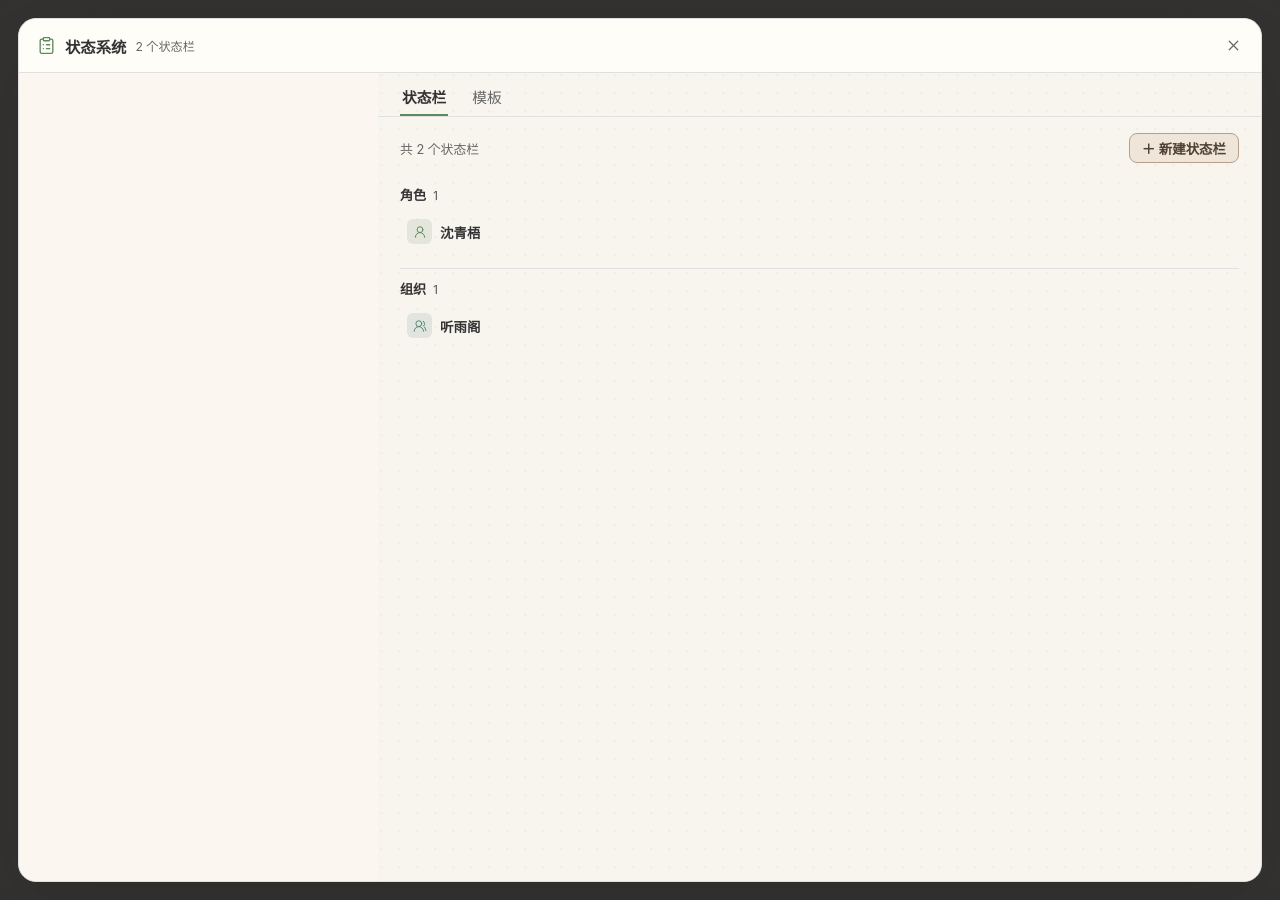
Scenario: ChatStatusSystemPanel › 批次B 实例字段快照优先：实例带 fields 时按快照渲染，不吃模板字段
Click the button with aria-label "查看状态栏 沈青梧" at coordinates (484, 232), box left=401, top=214, right=567, bottom=249
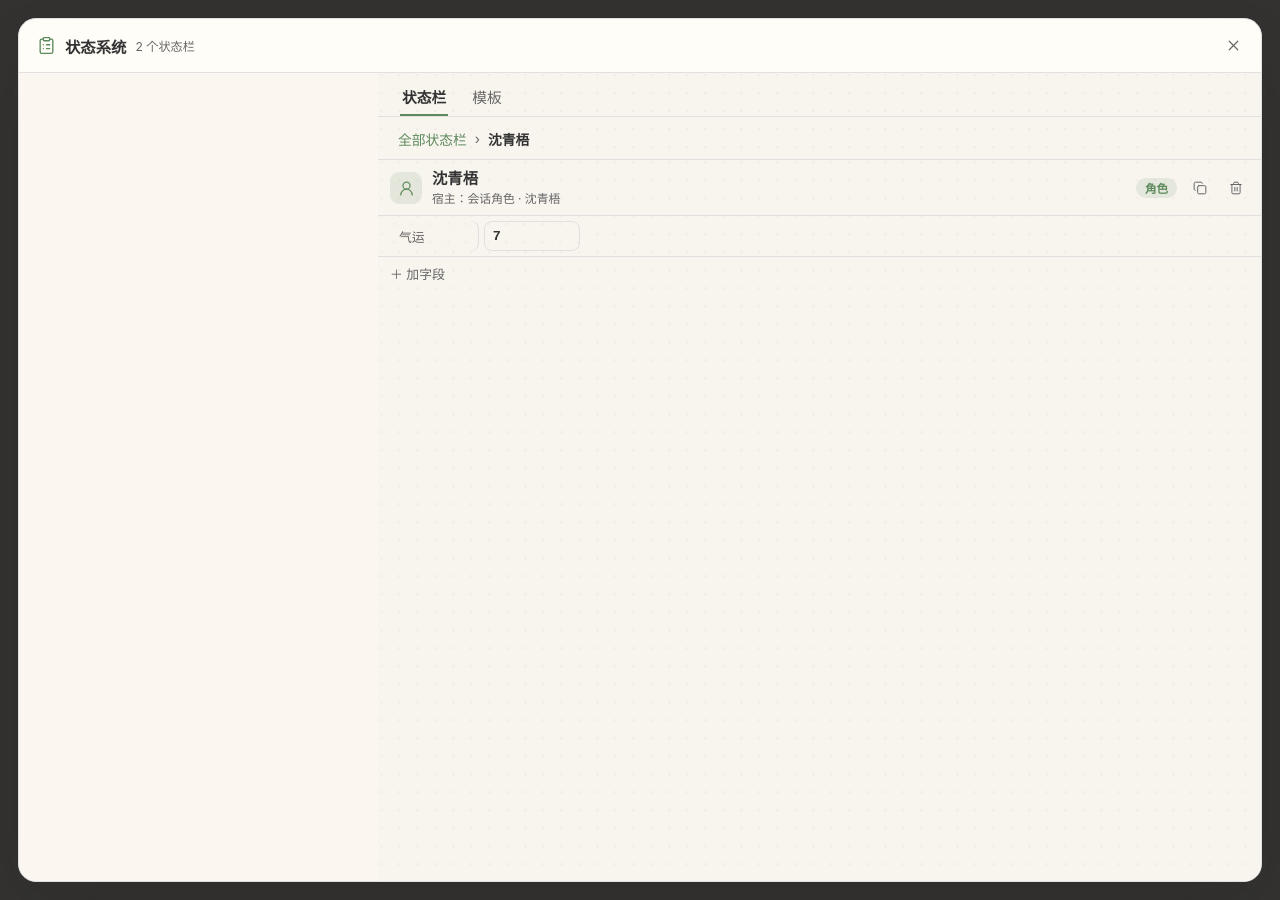
expect the button named "沈青梧 气运 值格" reads "7": met, box left=485, top=222, right=579, bottom=250
